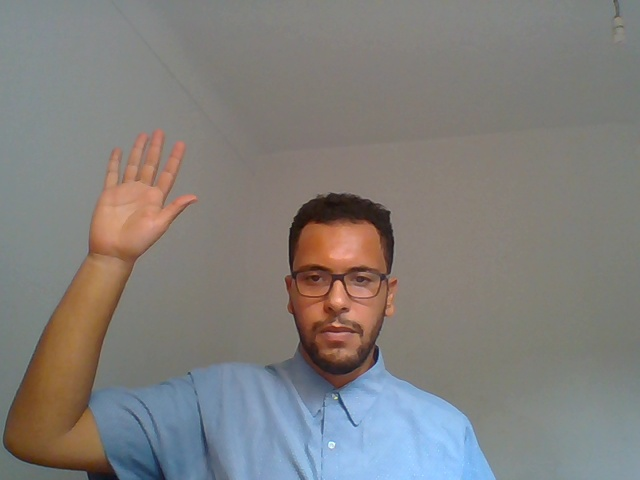hello: (38, 103, 223, 384)
